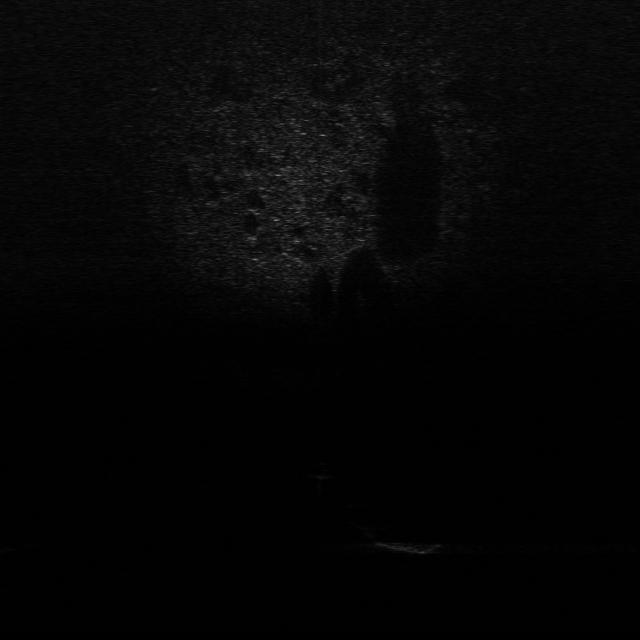ball: (303, 458, 337, 480)
metal bucket: (376, 538, 448, 555)
tyre: (351, 497, 397, 533)
